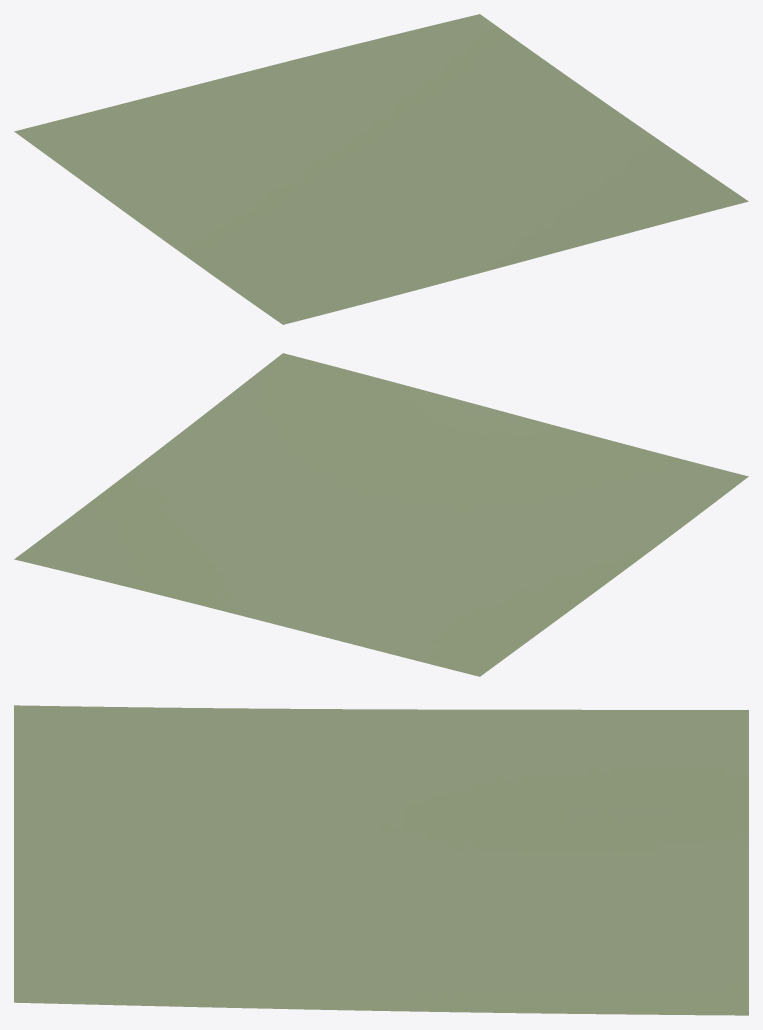
Rendered from expanse-4-13.glb.
The picture shows the model from 3 angles, top to bottom: view 1: azimuth 30°, elevation 25°; view 2: azimuth 150°, elevation 25°; view 3: azimuth 270°, elevation 25°; orthographic projection. The views are drawn at different scales.
Visible parts, largest first — view 1: expanse-4-13; view 2: expanse-4-13; view 3: expanse-4-13.
Part boxes in pixels (x1,y1,x2,y2): expanse-4-13: (14,14,748,324); expanse-4-13: (14,353,748,676); expanse-4-13: (14,705,748,1015).
Bounding box in the file's own units: 256 × 6.91 × 256.
